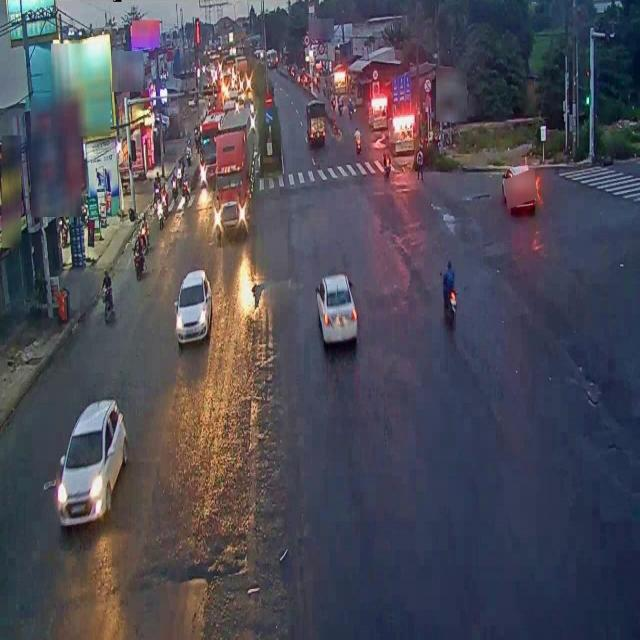car: (57, 394, 127, 528), (316, 273, 358, 344), (175, 265, 209, 339)
motorcycle: (440, 260, 460, 329)
